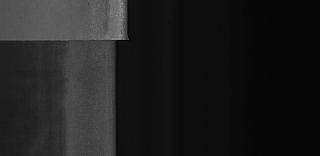welding line: (0, 36, 140, 50)
